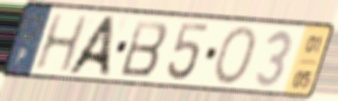3: (254, 27, 296, 90)
5: (166, 21, 212, 83)
A: (63, 14, 120, 79)
B: (117, 18, 171, 79)
H: (31, 13, 90, 75)
O: (211, 24, 259, 87)
